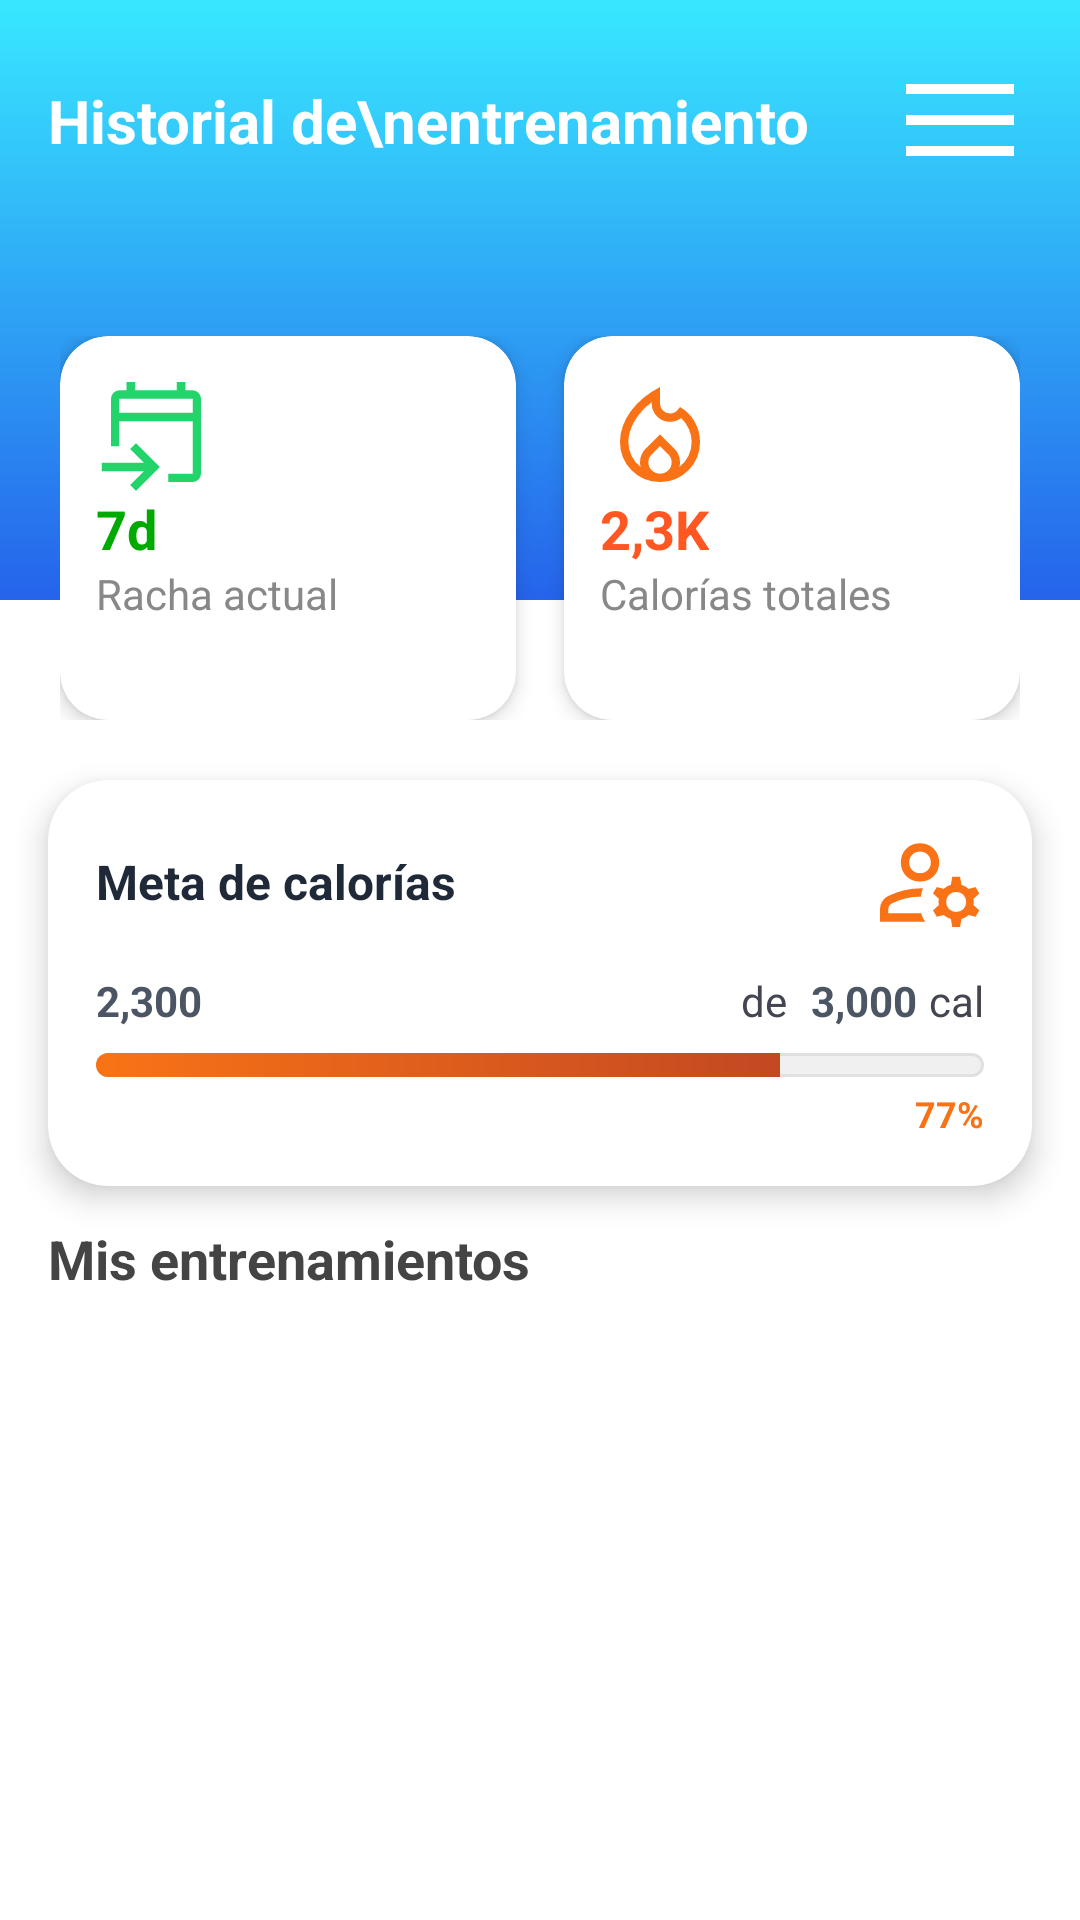

Point at icon controls on the screen. Image size 1080x1920, points as (x=x, y=y).
Botón menú: (x=960, y=138)
calendar event: (x=151, y=436)
fire: (x=660, y=434)
